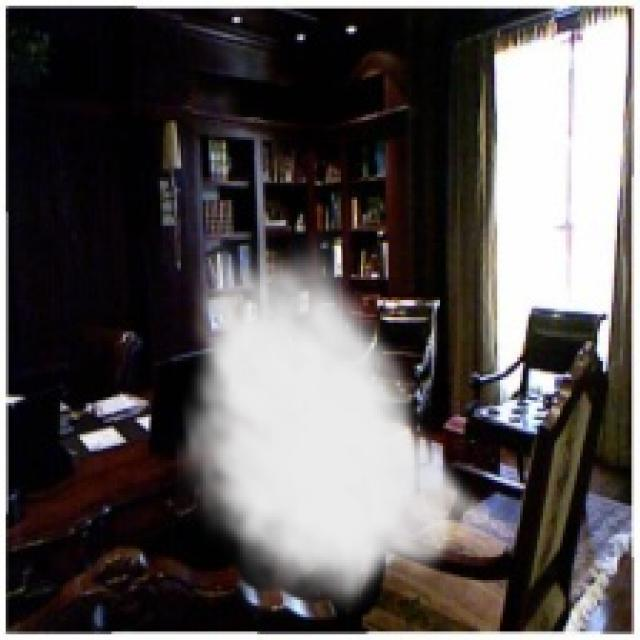Smoke: (174, 228, 523, 618)
